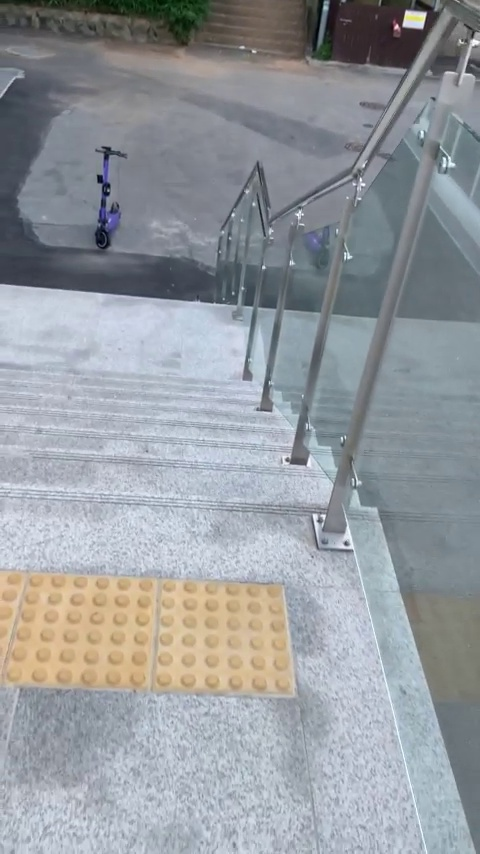beam: (80, 141, 145, 251)
